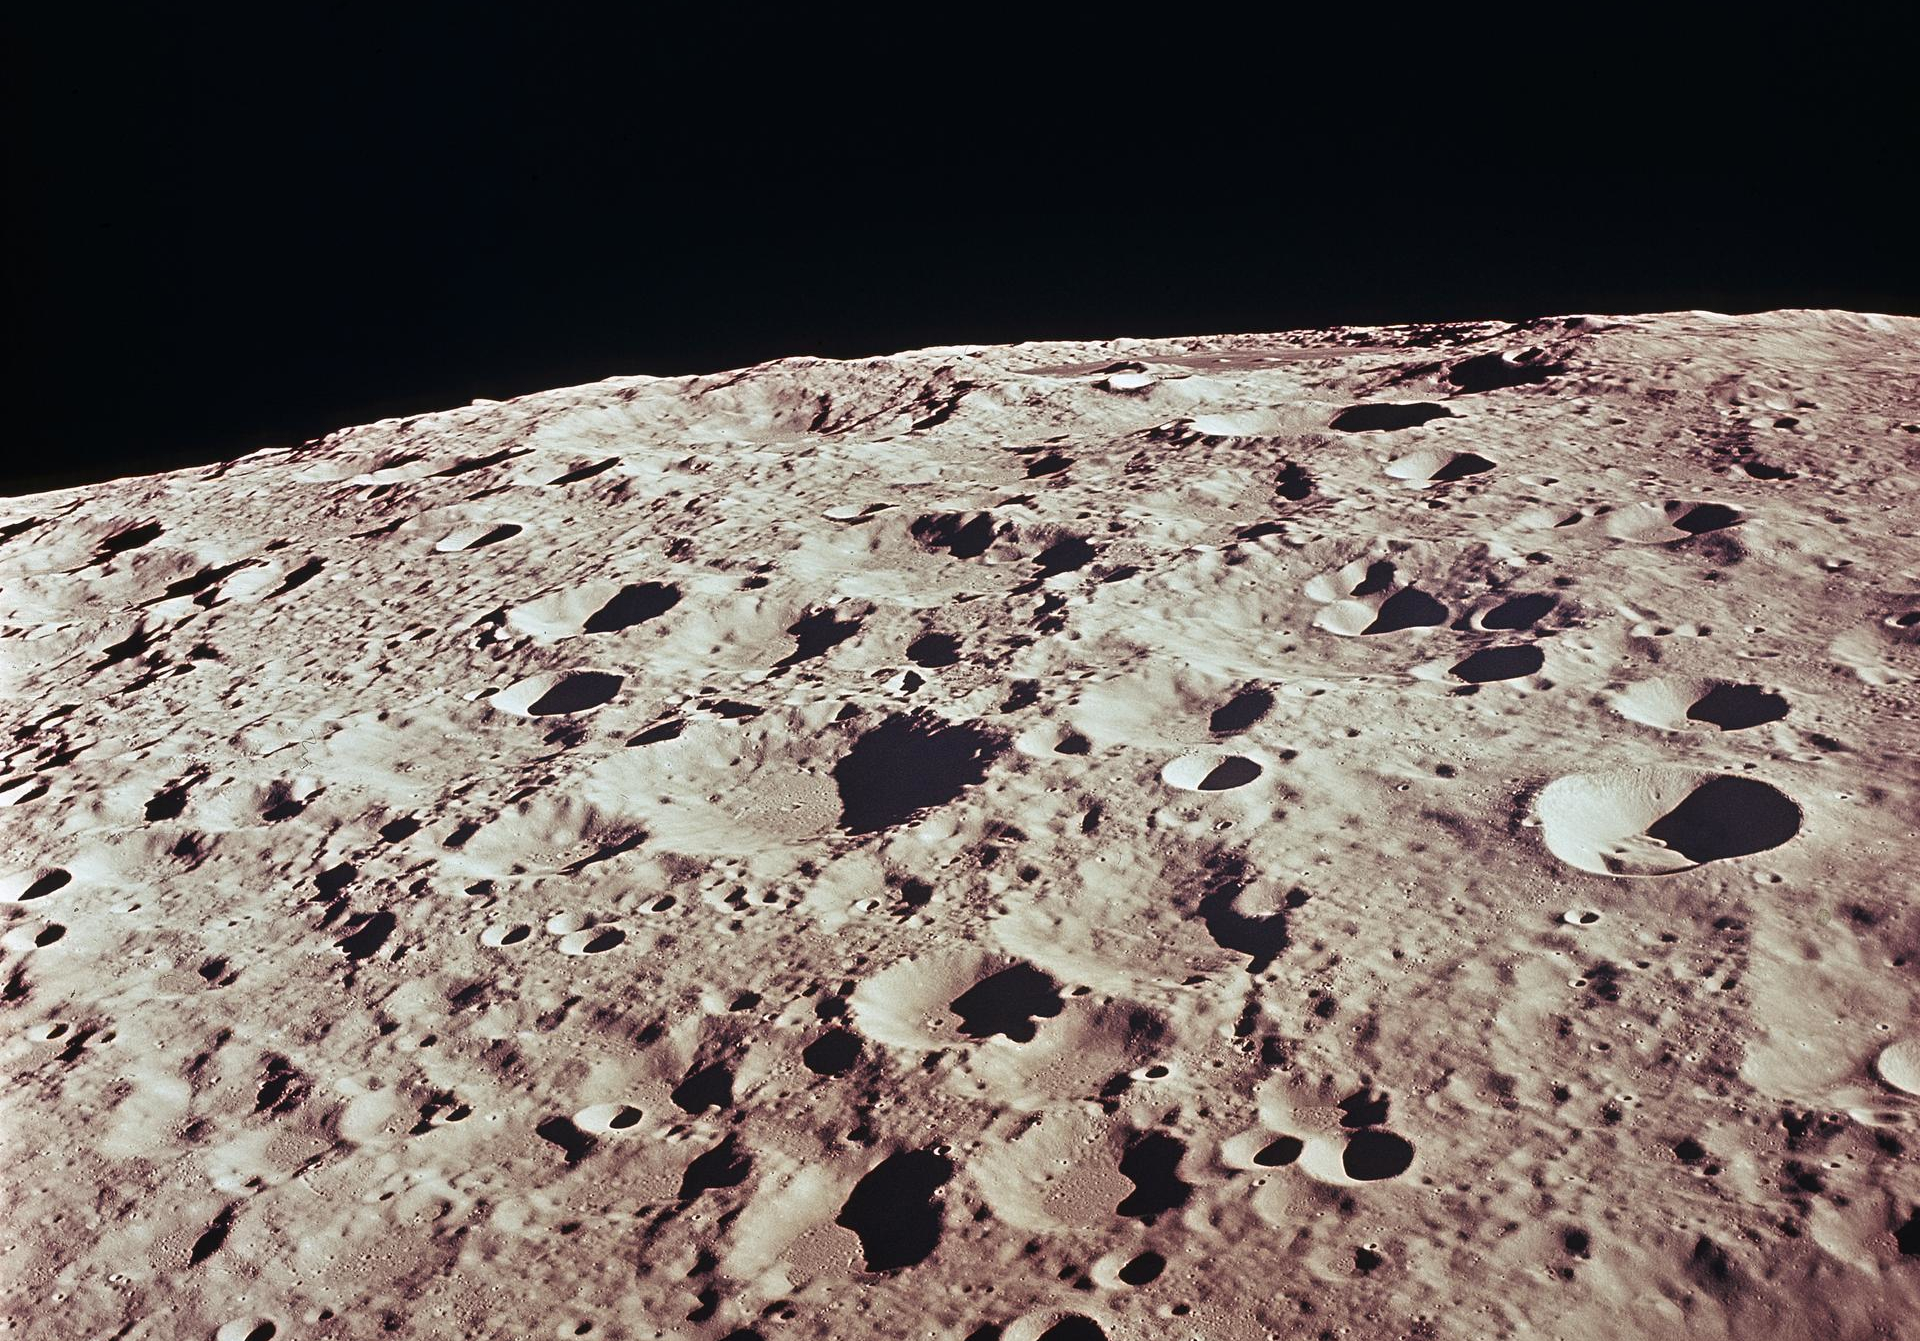crater: (551, 695, 1068, 900), (1471, 741, 1846, 932), (1593, 476, 1770, 579), (1134, 740, 1280, 811)
